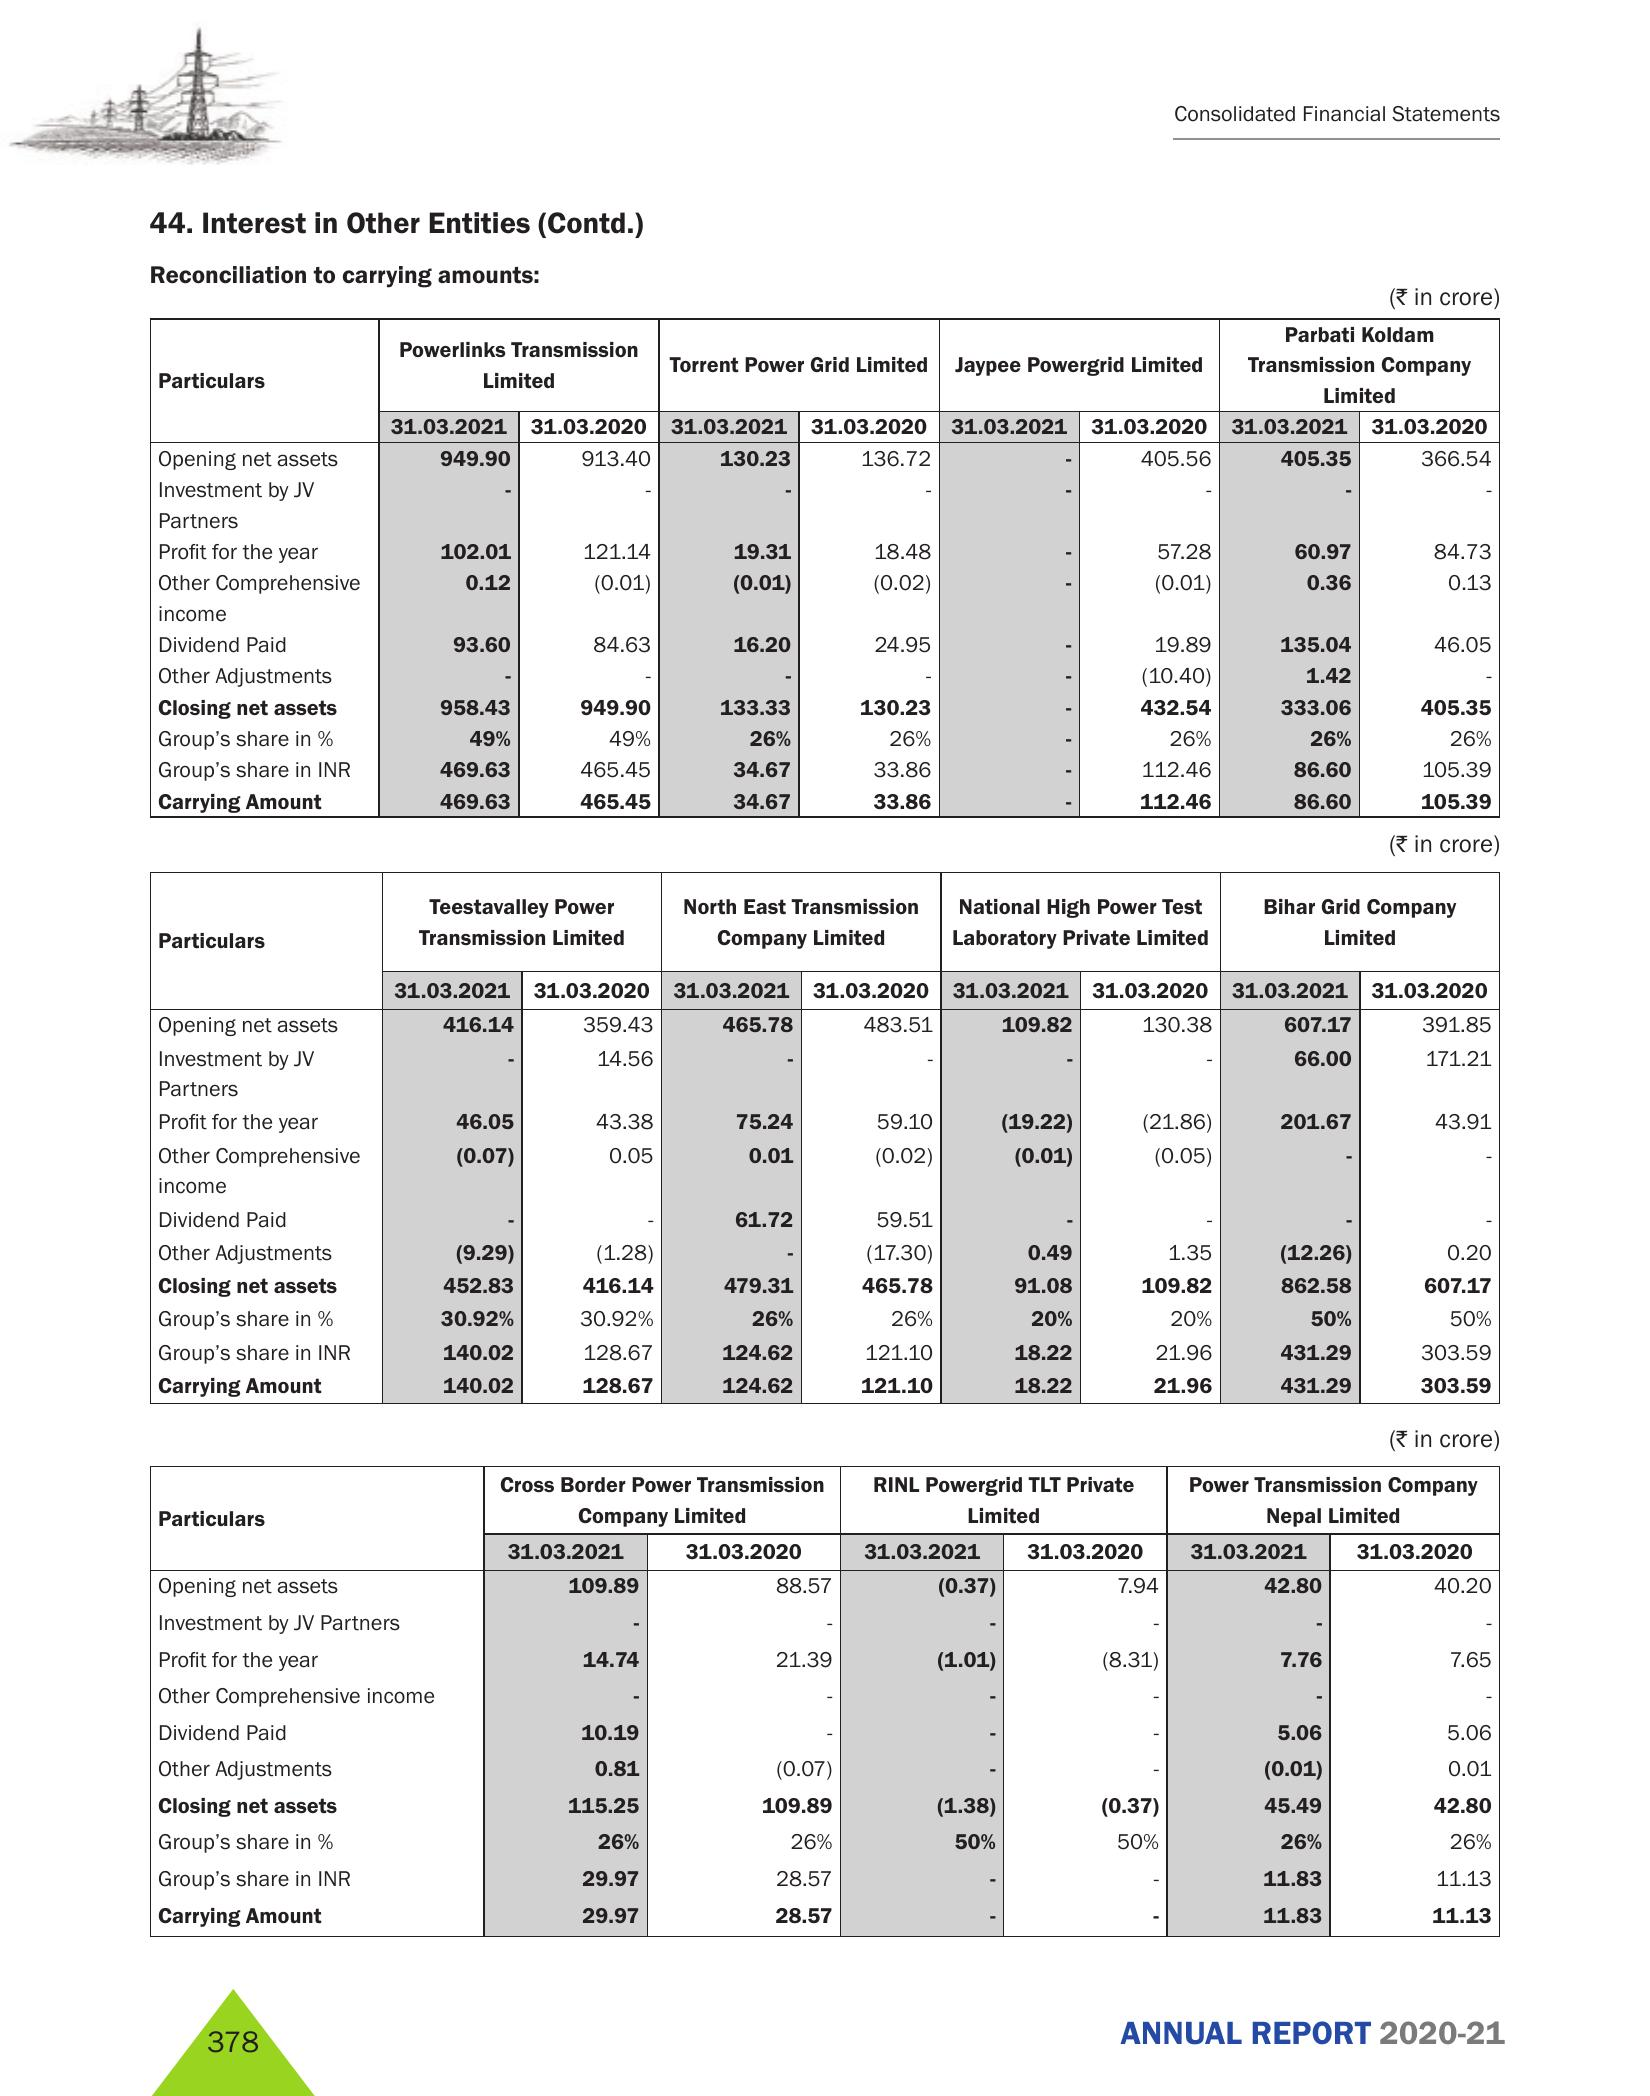Footer: (0, 1979, 1650, 2096)
Header: (0, 0, 1650, 184)
Table: (143, 857, 1507, 1400), (143, 315, 1507, 817), (143, 1460, 1511, 1953)
